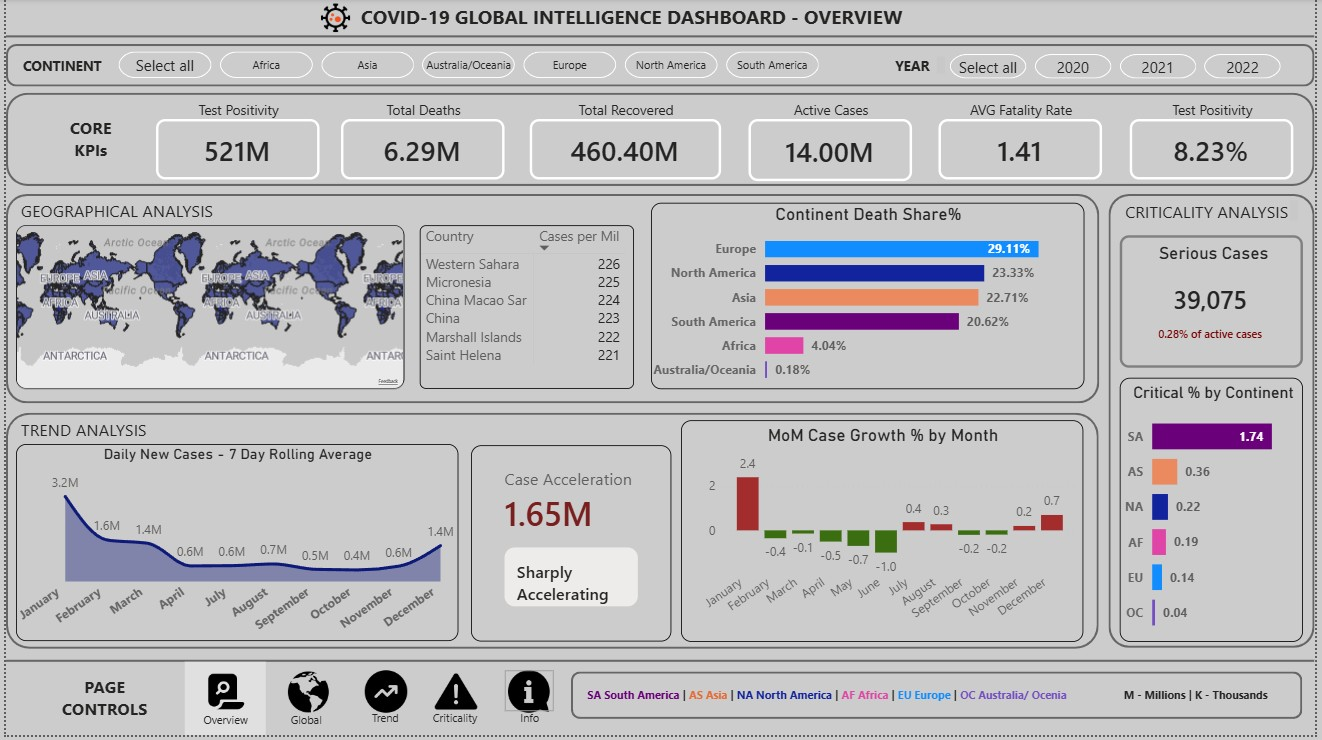

The page's visual inventory and layout, read from the dashboard file:
{"tool":"powerbi","page":{"name":"Overview","canvas":[1280,720],"ordinal":0},"visuals":[{"type":"shape","box":[0,43.8,1280,41.7],"z":0},{"type":"shape","box":[0,404.5,1069.1,230.9],"z":1000},{"type":"shape","box":[0,190.6,1069.5,204.8],"z":2000},{"type":"textbox","box":[175.5,648.2,79.1,71.8],"z":2500},{"type":"advancedSlicerVisual","fields":{"Values":["dim_continent.continent"]},"box":[110,51.7,688.3,26.7],"z":3000},{"type":"textbox","box":[0,51.7,110,28.3],"z":4000},{"type":"cardVisual","title":"TOTAL CONFIRMED","fields":{"Data":["Key Measure.Total Confirmed Cases","Key Measure.Total Deaths","Key Measure.Total Recovered","Key Measure.Active Cases","Key Measure.Avg Fatality Rate","Key Measure.Test Positivity"]},"box":[0,97.1,717.1,84.3],"z":5000},{"type":"azureMap","title":"Cases per Million by Country","fields":{"Category":["dim_country.country"]},"box":[10.2,221.1,379.6,160],"z":6000},{"type":"pivotTable","fields":{"Values":["Key Measure.Top 6 Countries"],"Rows":["dim_country.country"]},"box":[404.4,221.1,209.5,160],"z":7000},{"type":"clusteredBarChart","fields":{"Y":["Key Measure.Continent Death Share%"],"Category":["dim_continent.continent"],"Series":["dim_continent.continent"]},"box":[631.3,221.1,423.3,160],"z":9000},{"type":"advancedSlicerVisual","fields":{"Values":["dim_date.Date.Variation.Date Hierarchy.Year"]},"box":[923.2,53.8,324.1,24.5],"z":10000},{"type":"textbox","box":[858.3,51.7,65,26.7],"z":11000},{"type":"textbox","box":[10.2,190.3,209.1,31.3],"z":12000},{"type":"lineChart","title":"Daily New Cases - 7 Day Rolling Average","fields":{"Y":["Key Measure.7D Rolling Avg New Cases"],"Category":["dim_date.Date.Variation.Date Hierarchy.Month"]},"box":[10,435.7,432.9,192.9],"z":13000},{"type":"textbox","box":[10.1,404.6,141.4,31.7],"z":14000},{"type":"cardVisual","fields":{"Data":["Key Measure.Case Acceleration"]},"box":[454.3,437.1,195.7,191.4],"z":15000},{"type":"clusteredColumnChart","fields":{"Y":["Key Measure.MoM Case Growth %"],"Category":["dim_date.Date.Variation.Date Hierarchy.Month"]},"box":[661.4,435.7,392.9,192.9],"z":16000},{"type":"shape","box":[0,636.3,1279.7,23.1],"z":17000},{"type":"shape","box":[0,28.9,1279.7,14.4],"z":18000},{"type":"textbox","box":[323.2,0,578.5,36.1],"z":19000},{"type":"image","box":[301.3,0.7,43.3,34.7],"z":20000},{"type":"image","box":[267.7,657.9,56.3,40.4],"z":21000},{"type":"image","box":[350.7,656.4,41.4,42.1],"z":22000},{"type":"image","box":[189,656.5,51.9,41.8],"z":23000},{"type":"image","box":[418.9,656.5,41.8,41.8],"z":24000},{"type":"textbox","box":[183.6,689.3,62.9,30.7],"z":25000},{"type":"textbox","box":[267.1,689.3,54.3,30.7],"z":26000},{"type":"textbox","box":[343.8,688.8,55,31.2],"z":27000},{"type":"textbox","box":[400,688.8,78.8,30],"z":28001},{"type":"textbox","box":[41.4,656.4,110,60],"z":28002},{"type":"image","box":[487.5,656.2,47.5,41.2],"z":28003},{"type":"textbox","box":[485,688.8,53.8,30],"z":28005}]}

Visuals, with their boxes in screenshot pixels (x1, y1, x2, y2), scaled from the page's 1280x720 canvas onto the 1322x740 screenshot:
shape: (x1=0, y1=45, x2=1321, y2=88)
shape: (x1=0, y1=416, x2=1104, y2=653)
shape: (x1=0, y1=196, x2=1105, y2=406)
textbox: (x1=181, y1=666, x2=263, y2=739)
advancedSlicerVisual - dim_continent.continent: (x1=114, y1=53, x2=824, y2=81)
textbox: (x1=0, y1=53, x2=114, y2=82)
"TOTAL CONFIRMED" cardVisual: (x1=0, y1=100, x2=741, y2=186)
"Cases per Million by Country" azureMap: (x1=11, y1=227, x2=403, y2=392)
pivotTable - Key Measure.Top 6 Countries x dim_country.country: (x1=418, y1=227, x2=634, y2=392)
clusteredBarChart - Key Measure.Continent Death Share% x dim_continent.continent: (x1=652, y1=227, x2=1089, y2=392)
advancedSlicerVisual - dim_date.Date.Variation.Date Hierarchy.Year: (x1=953, y1=55, x2=1288, y2=80)
textbox: (x1=886, y1=53, x2=954, y2=81)
textbox: (x1=11, y1=196, x2=226, y2=228)
"Daily New Cases - 7 Day Rolling Average" lineChart: (x1=10, y1=448, x2=457, y2=646)
textbox: (x1=10, y1=416, x2=156, y2=448)
cardVisual - Key Measure.Case Acceleration: (x1=469, y1=449, x2=671, y2=646)
clusteredColumnChart - Key Measure.MoM Case Growth % x dim_date.Date.Variation.Date Hierarchy.Month: (x1=683, y1=448, x2=1089, y2=646)
shape: (x1=0, y1=654, x2=1321, y2=678)
shape: (x1=0, y1=30, x2=1321, y2=45)
textbox: (x1=334, y1=0, x2=931, y2=37)
image: (x1=311, y1=1, x2=356, y2=36)
image: (x1=276, y1=676, x2=335, y2=718)
image: (x1=362, y1=675, x2=405, y2=718)
image: (x1=195, y1=675, x2=249, y2=718)
image: (x1=433, y1=675, x2=476, y2=718)
textbox: (x1=190, y1=708, x2=255, y2=739)
textbox: (x1=276, y1=708, x2=332, y2=739)
textbox: (x1=355, y1=708, x2=412, y2=739)
textbox: (x1=413, y1=708, x2=495, y2=739)
textbox: (x1=43, y1=675, x2=156, y2=736)
image: (x1=503, y1=674, x2=553, y2=717)
textbox: (x1=501, y1=708, x2=556, y2=739)
